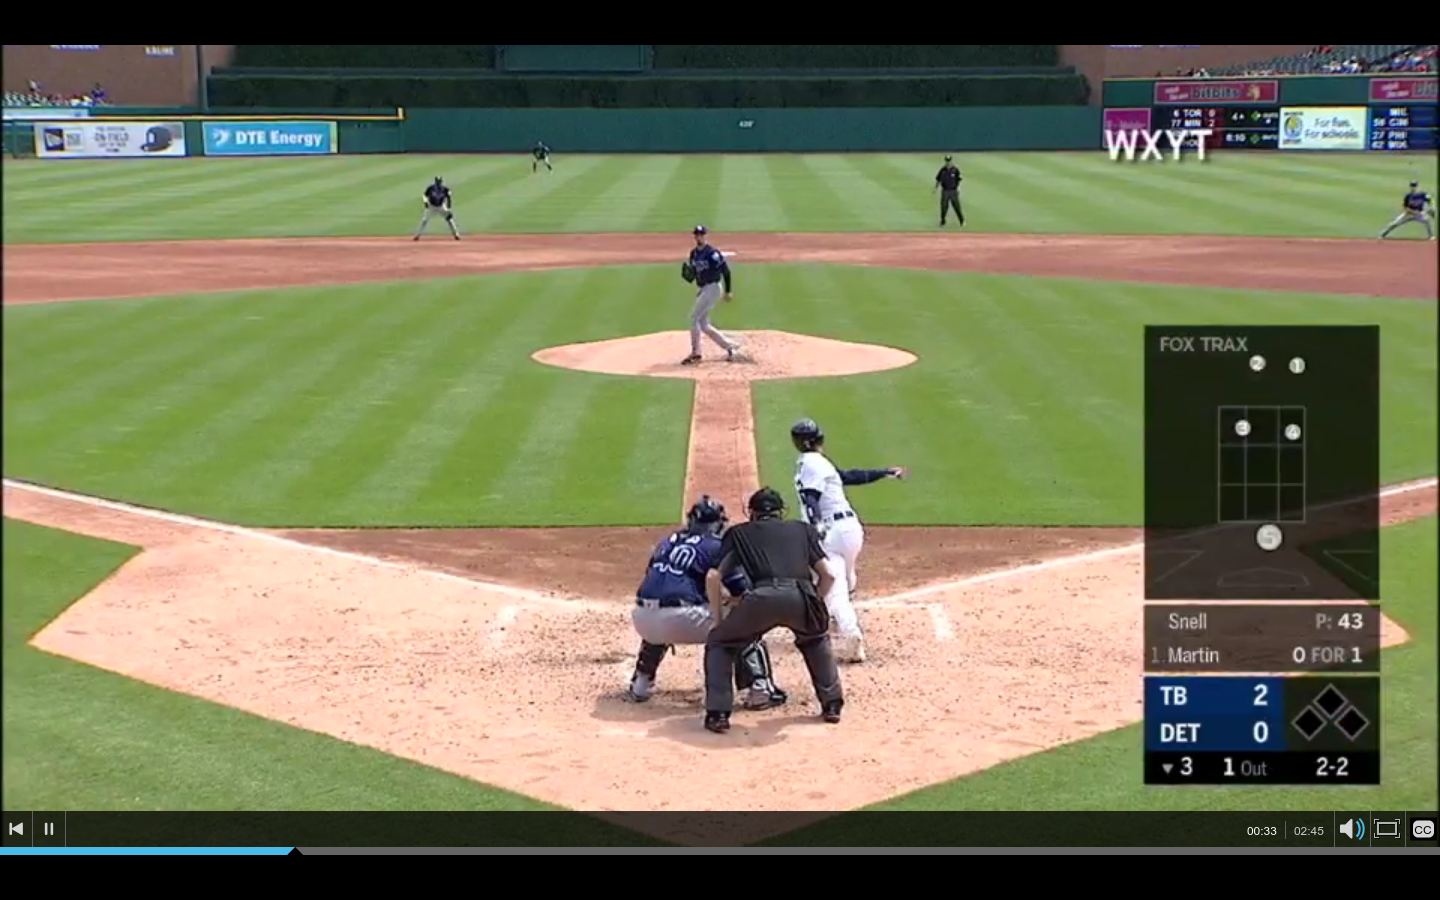baseball player: (608, 491, 778, 702), (792, 411, 904, 672), (678, 222, 747, 369), (1372, 176, 1438, 243), (413, 174, 470, 243), (524, 137, 558, 183)
referee: (701, 488, 844, 729), (928, 152, 976, 236)
